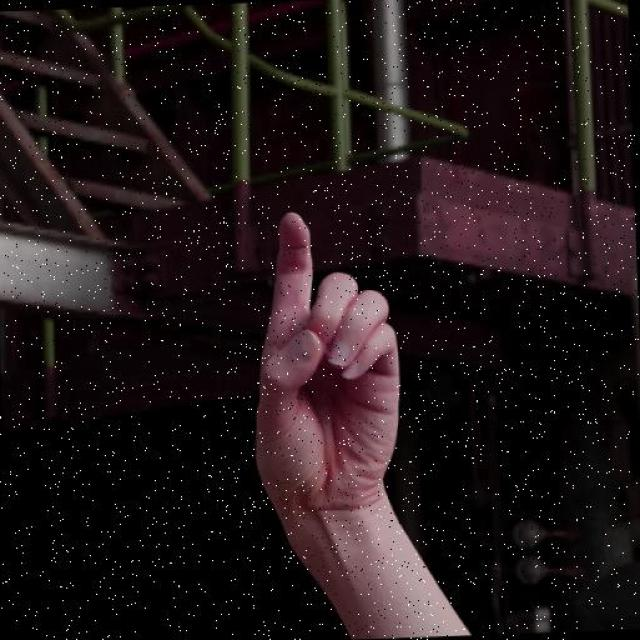X: (240, 202, 419, 523)
